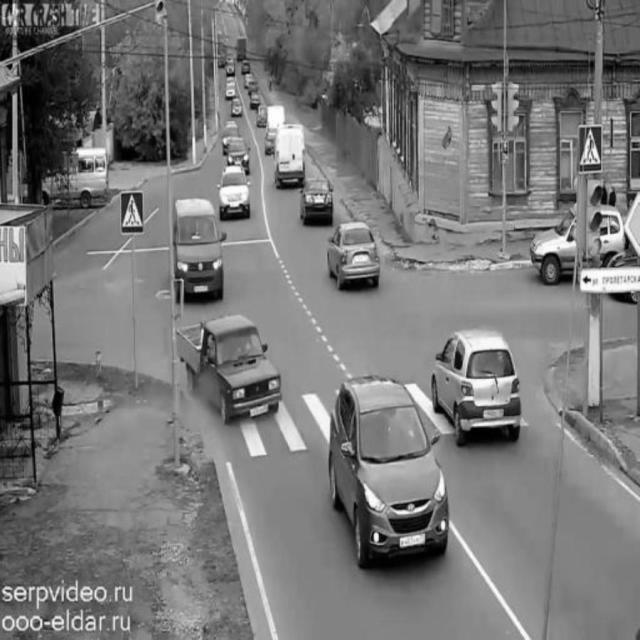vehicle: (327, 378, 451, 560), (178, 314, 284, 417), (432, 329, 522, 442), (531, 208, 625, 284), (174, 196, 222, 299), (42, 146, 108, 204), (327, 222, 383, 290), (274, 126, 309, 187), (300, 177, 337, 225), (221, 165, 251, 215), (227, 136, 255, 173), (235, 33, 251, 61), (248, 89, 263, 113), (223, 77, 239, 97), (230, 98, 245, 115), (225, 59, 237, 79)
